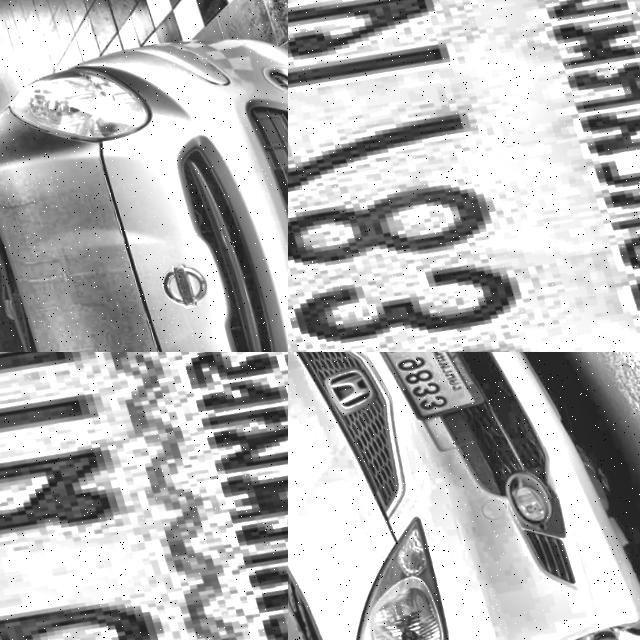license-plate: (288, 0, 640, 352), (0, 352, 288, 640), (352, 352, 489, 427)
